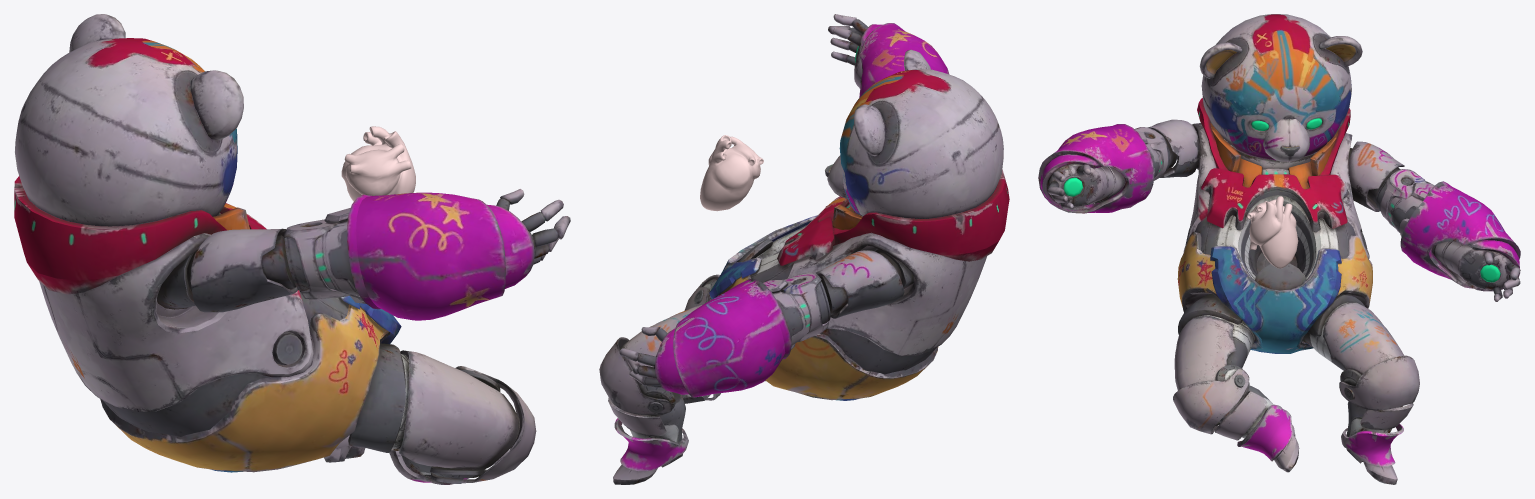
Rendered from bear-transformed.glb.
The picture shows the model from 3 angles, left to right: view 1: azimuth 30°, elevation 25°; view 2: azimuth 150°, elevation 25°; view 3: azimuth 270°, elevation 25°; orthographic projection. The views are drawn at different scales.
Visible parts, largest first — view 1: object_2, object_0, object_1, object_3; view 2: object_2, object_0, object_1, object_3; view 3: object_2, object_0, object_1, object_3.
Boxes of the visible parts, <box> form: object_2: <box>14,14,401,472</box>; object_0: <box>157,189,570,320</box>; object_1: <box>324,343,536,484</box>; object_3: <box>341,126,415,201</box>; object_2: <box>709,49,1009,400</box>; object_0: <box>619,14,949,397</box>; object_1: <box>599,274,765,484</box>; object_3: <box>700,135,763,211</box>; object_2: <box>1177,14,1372,353</box>; object_0: <box>1038,119,1520,301</box>; object_1: <box>1173,294,1419,484</box>; object_3: <box>1247,196,1298,268</box>.
Size of the model in its own units: 10.04 by 11.47 by 13.8.
4 materials, 4 textured.
